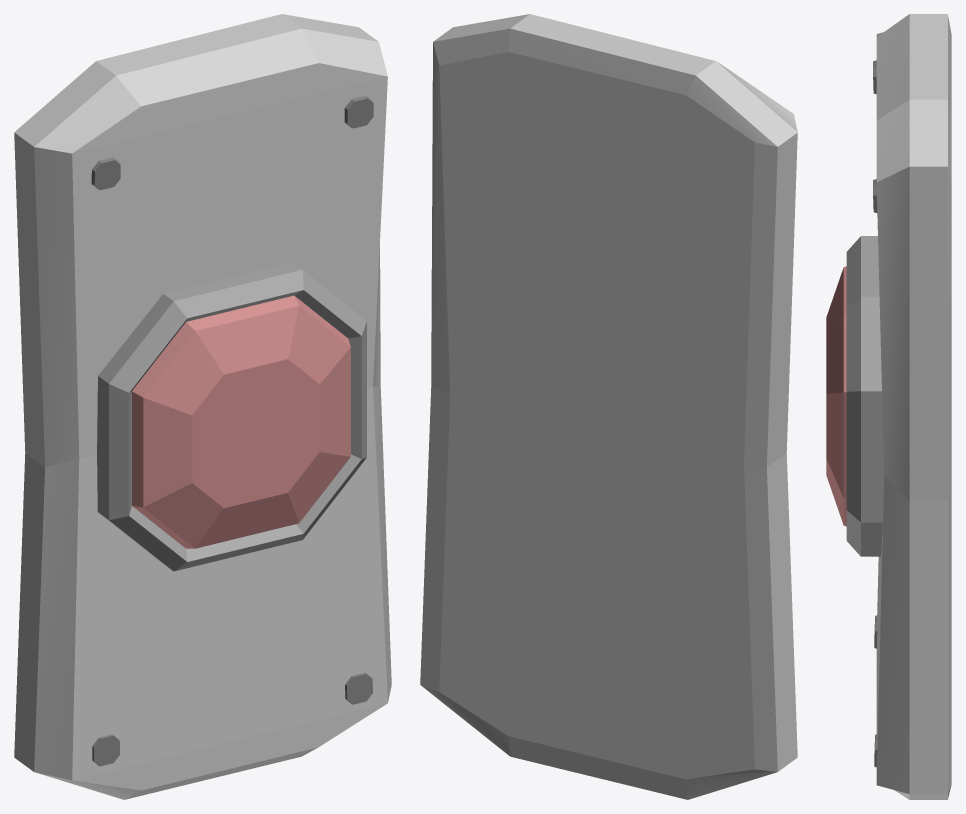
Rendered from button.glb.
The picture shows the model from 3 angles, left to right: view 1: azimuth 30°, elevation 25°; view 2: azimuth 150°, elevation 25°; view 3: azimuth 270°, elevation 25°; orthographic projection. The views are drawn at different scales.
Parts seen in each view (by area): view 1: _MeshInstance3D_58; view 2: _MeshInstance3D_58; view 3: _MeshInstance3D_58.
Part boxes in pixels (bbox=[...]): _MeshInstance3D_58: bbox=[14, 14, 391, 799]; _MeshInstance3D_58: bbox=[420, 14, 797, 799]; _MeshInstance3D_58: bbox=[826, 14, 951, 799].
Bounding box in the file's own units: 0.1645 × 0.32 × 0.0518.
